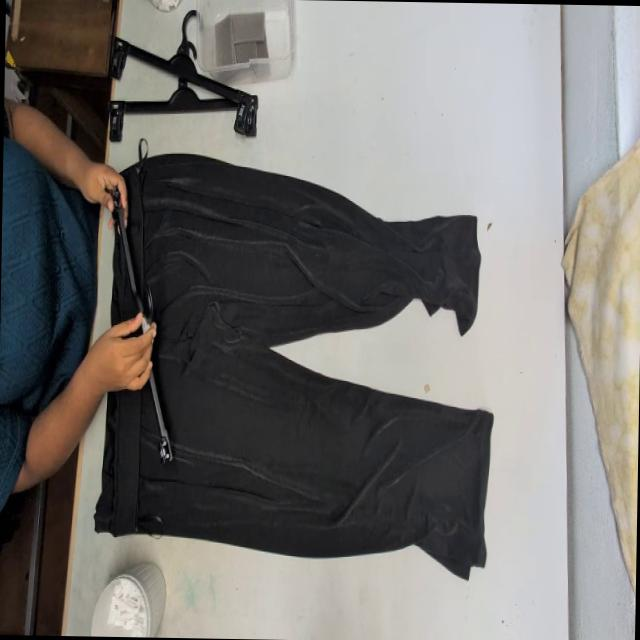new-garment: (95, 153, 492, 577)
